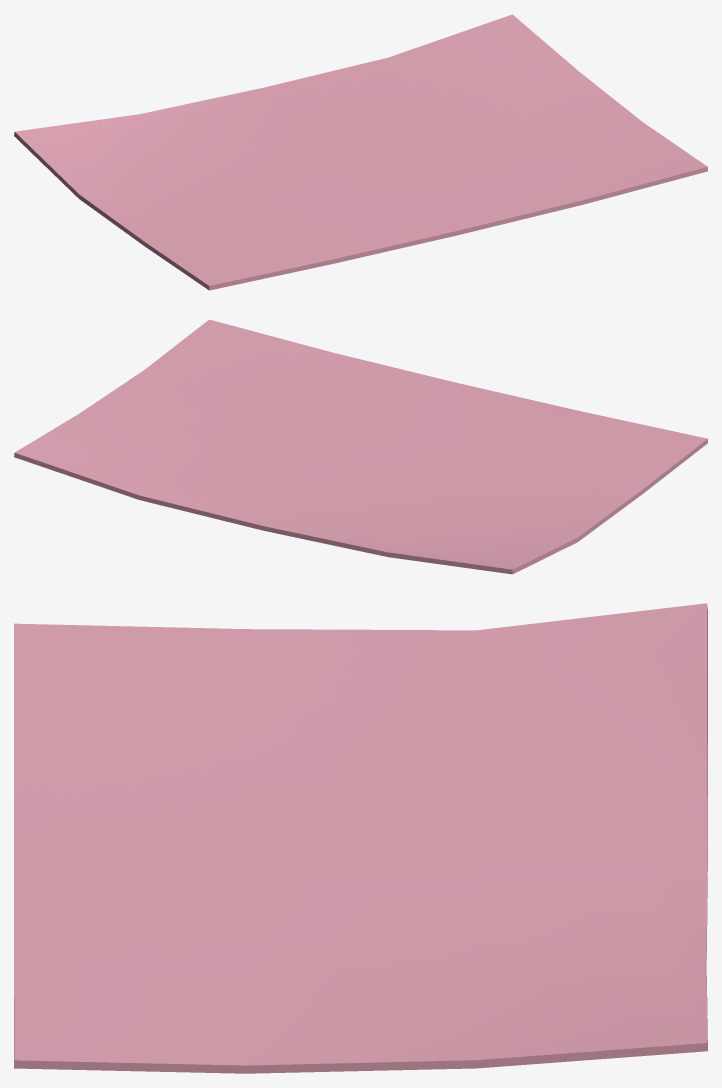
File: GroupPhoto.fbx
3 views of the same model, one above another, from view 1: azimuth 30°, elevation 25°; view 2: azimuth 150°, elevation 25°; view 3: azimuth 270°, elevation 25° (orthographic). The views are drawn at different scales.
Parts seen in each view (by area): view 1: GroupPhoto; view 2: GroupPhoto; view 3: GroupPhoto.
Boxes of the visible parts, x1=… form: GroupPhoto: x1=14, y1=14, x2=707, y2=290; GroupPhoto: x1=14, y1=319, x2=707, y2=574; GroupPhoto: x1=14, y1=603, x2=707, y2=1073.
Size of the model in its own units: 22.99 by 0.9811 by 15.57.
